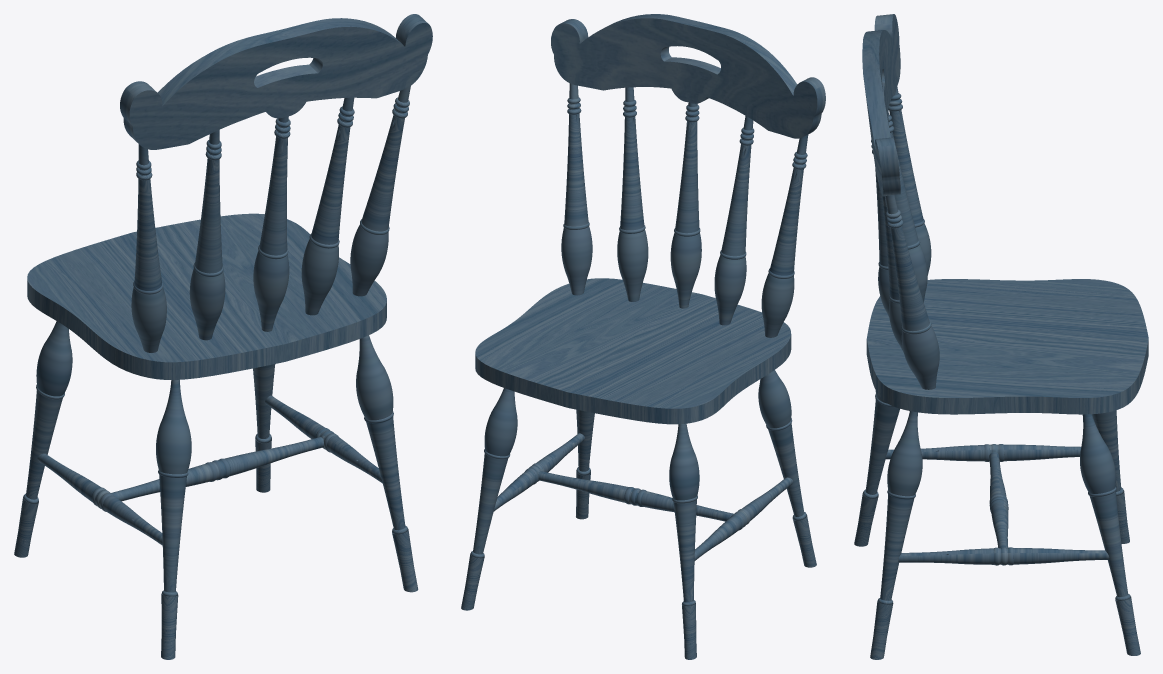
Rendered from сhair6 1.fbx.
3 views of the same model, side by side, from view 1: azimuth 30°, elevation 25°; view 2: azimuth 150°, elevation 25°; view 3: azimuth 270°, elevation 25° (orthographic). The views are drawn at different scales.
Visible parts, largest first — view 1: CHAIR_1-OBJ25_001; view 2: CHAIR_1-OBJ25_001; view 3: CHAIR_1-OBJ25_001.
Part boxes in pixels (x1,y1,x2,y2): CHAIR_1-OBJ25_001: (14, 14, 432, 659); CHAIR_1-OBJ25_001: (461, 14, 825, 659); CHAIR_1-OBJ25_001: (854, 14, 1148, 659).
Size of the model in its own units: 51.87 by 96.45 by 47.25.
